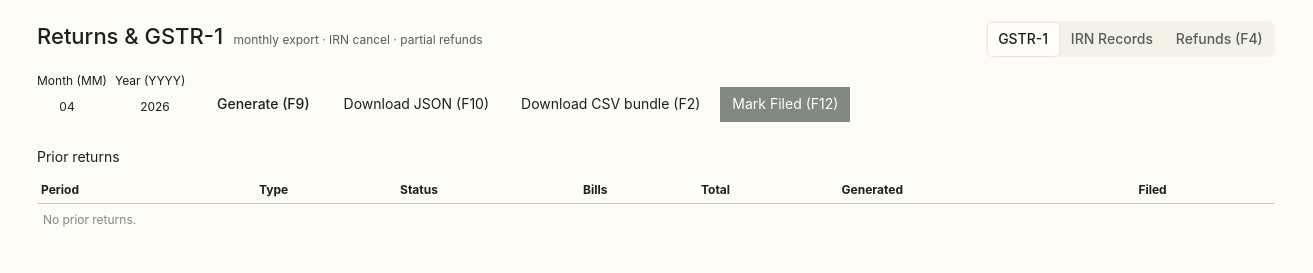
Test case: ReturnsScreen · A10 › A12 · status filter narrows the IRN list
Click the tab with test id "ret-mode-irn". click: x=1112, y=39
box: [1060,23,1164,56]
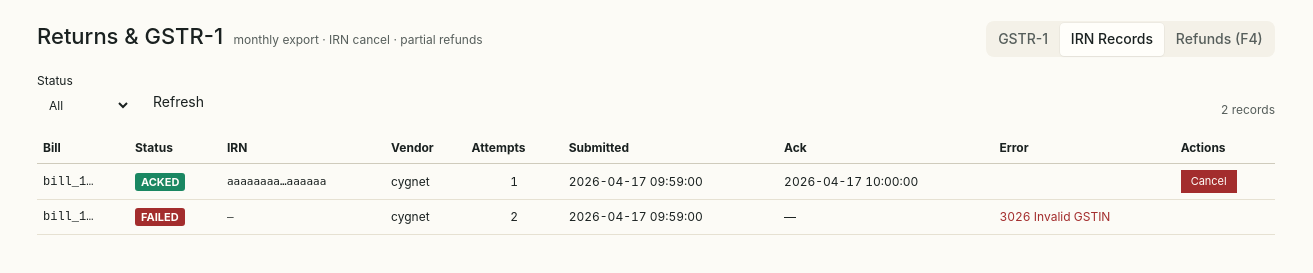
Now the element with test id "irn-panel" is shown, box [37,71,1275,235]
Now the row with test id "irn-row-ir_a" is shown, box [37,163,1275,200]
Select "Failed" in the dropdown with test id "irn-filter". click: x=84, y=105
box: [37,91,131,120]
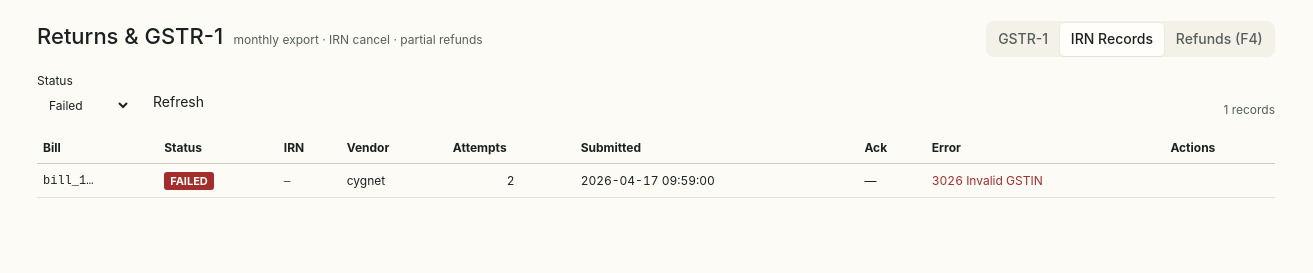
Now the row with test id "irn-row-ir_f" is shown, box [37,163,1275,198]
Now the row with test id "irn-row-ir_a" is gone
